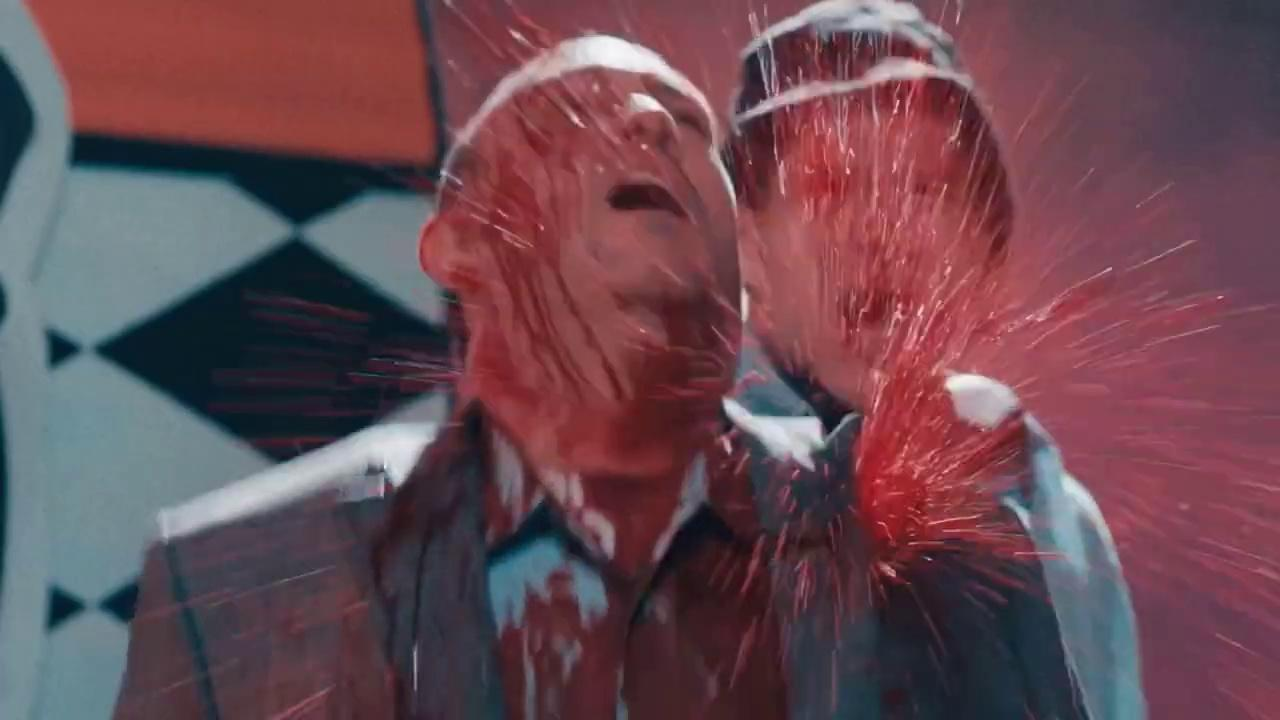Fire: (115, 0, 1280, 719)
